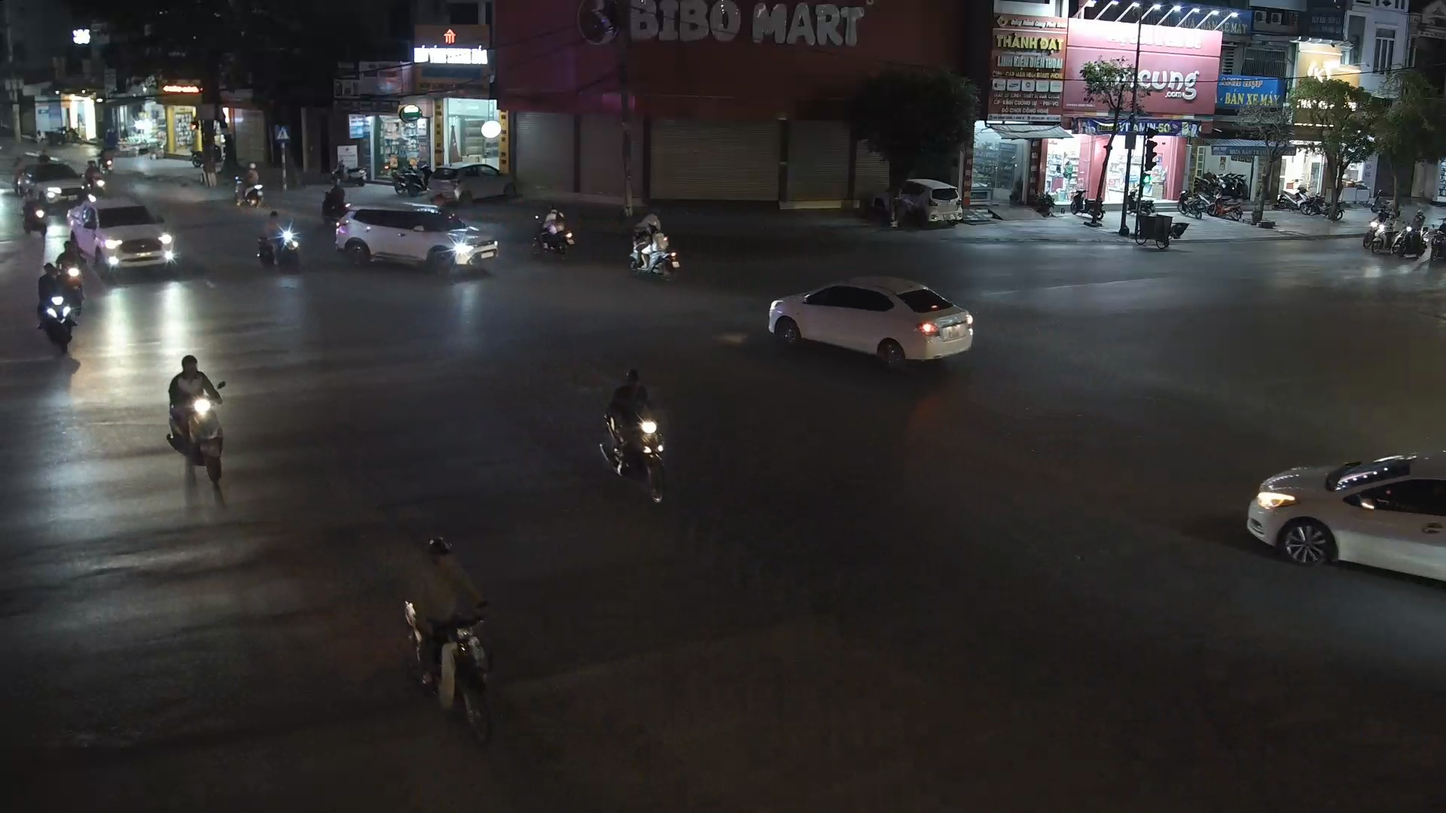bike: (400, 531, 500, 745)
car: (1247, 451, 1445, 591), (764, 277, 975, 370), (334, 198, 498, 275), (70, 193, 175, 282), (17, 153, 92, 229)
motorbike: (400, 530, 498, 746), (164, 350, 229, 487), (596, 366, 669, 480), (33, 257, 84, 352), (627, 215, 682, 281), (256, 206, 303, 272), (58, 229, 89, 320), (532, 202, 576, 262)
